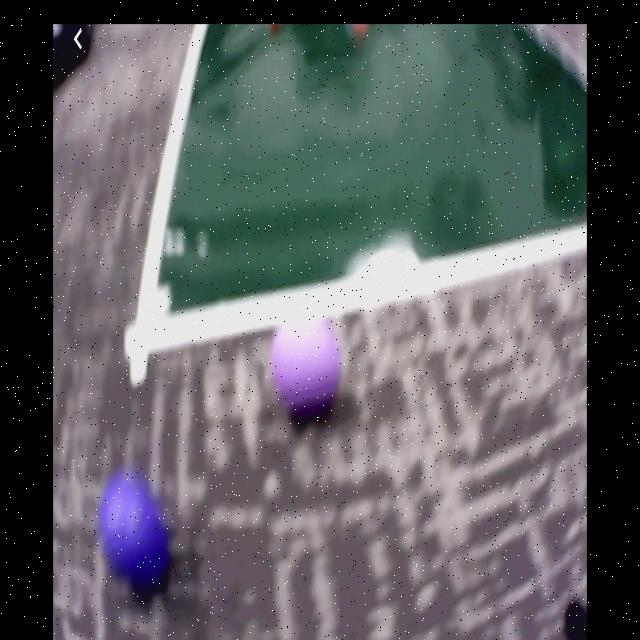ball: (101, 475, 171, 584), (274, 314, 339, 420)
